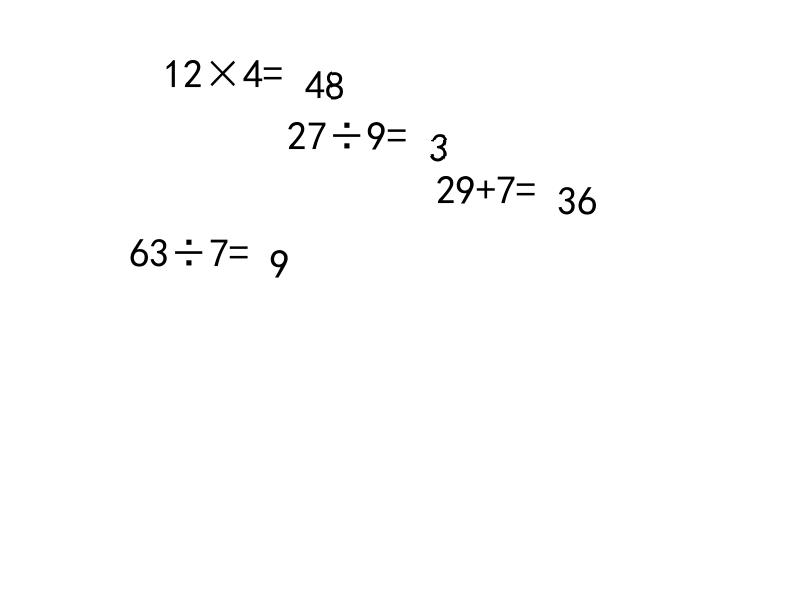+: (476, 169, 496, 198)
1: (163, 53, 183, 82)
2: (183, 53, 203, 82), (287, 115, 307, 144), (436, 169, 456, 198)
3: (417, 115, 437, 144), (546, 169, 566, 198), (149, 232, 169, 261)
4: (243, 53, 263, 82), (293, 53, 313, 82)
6: (566, 169, 586, 198), (129, 232, 149, 261)
7: (307, 115, 327, 144), (496, 169, 516, 198), (209, 232, 229, 261)
8: (313, 53, 333, 82)
9: (367, 115, 387, 144), (456, 169, 476, 198), (259, 232, 279, 261)
=: (263, 53, 283, 82), (387, 115, 407, 144), (516, 169, 536, 198), (229, 232, 249, 261)
×: (203, 53, 243, 82)
÷: (327, 115, 367, 144), (169, 232, 209, 261)
